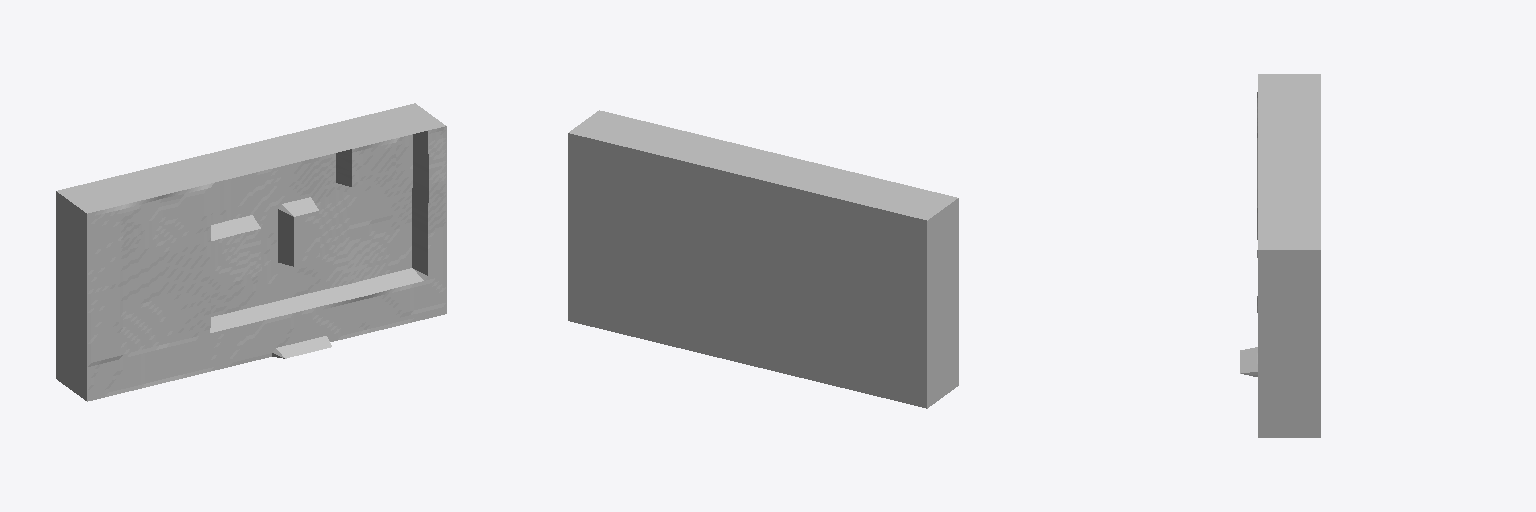
File: rectangular_prism_bumps_9_8.obj
3 renders of one model, left to right at view 1: azimuth 30°, elevation 25°; view 2: azimuth 150°, elevation 25°; view 3: azimuth 270°, elevation 25°, orthographic.
Bounding box in the file's own units: 10 × 5 × 1.96.